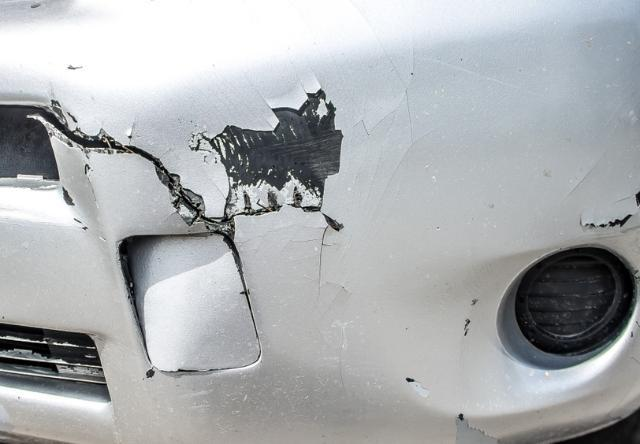Bumper: (3, 29, 459, 444)
